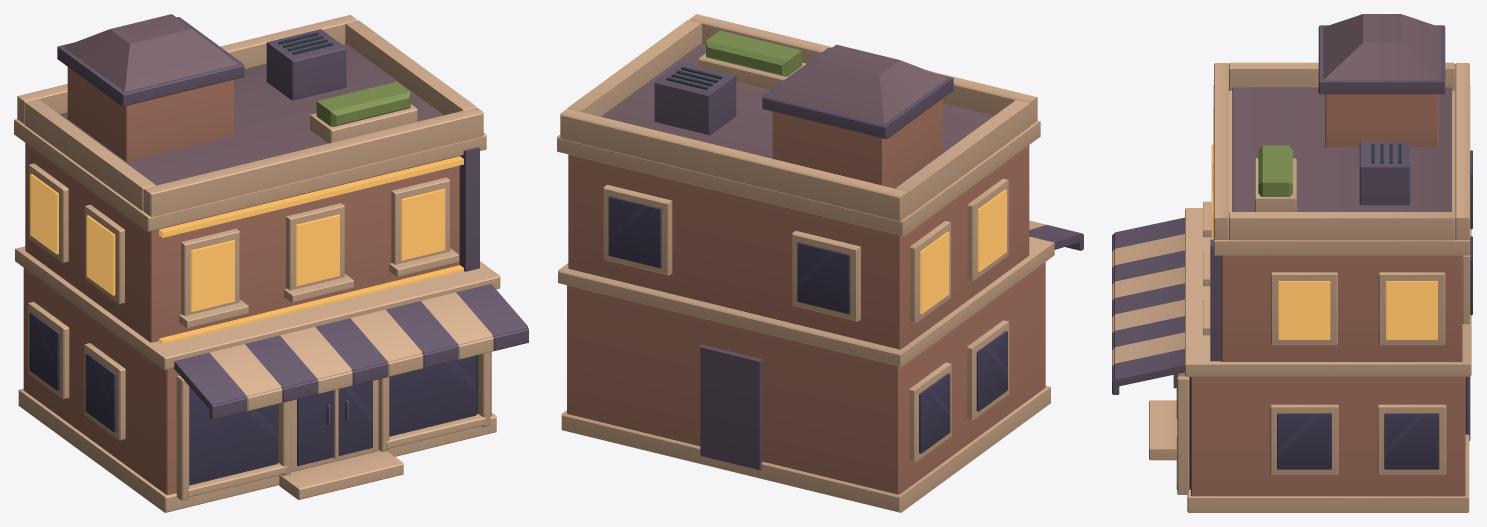
The model's file is 02D-market-threejs.glb.
3 renders of one model, left to right at view 1: azimuth 30°, elevation 25°; view 2: azimuth 150°, elevation 25°; view 3: azimuth 270°, elevation 25°, orthographic. The views are drawn at different scales.
Parts seen in each view (by area): view 1: 02D / trim, 02D / wall, 02D / accent, 02D / glass, 02D / roof, 02D / glow, 02D / green, 02D / dark; view 2: 02D / wall, 02D / trim, 02D / accent, 02D / roof, 02D / glass, 02D / glow, 02D / green, 02D / dark; view 3: 02D / trim, 02D / wall, 02D / roof, 02D / accent, 02D / glass, 02D / glow, 02D / green, 02D / dark.
Part boxes in pixels (x1,y1,x2,y2): 02D / trim: [14, 15, 500, 512]; 02D / wall: [23, 67, 491, 494]; 02D / accent: [57, 17, 528, 425]; 02D / glass: [29, 312, 476, 485]; 02D / roof: [59, 14, 443, 185]; 02D / glow: [30, 156, 463, 343]; 02D / green: [316, 81, 410, 126]; 02D / dark: [278, 32, 478, 462]; 02D / wall: [567, 98, 1045, 494]; 02D / trim: [557, 14, 1054, 512]; 02D / accent: [654, 47, 1083, 470]; 02D / roof: [601, 44, 993, 188]; 02D / glass: [608, 196, 1007, 453]; 02D / glow: [920, 189, 1006, 313]; 02D / green: [706, 30, 802, 76]; 02D / dark: [666, 67, 722, 89]; 02D / trim: [1112, 62, 1471, 512]; 02D / wall: [1191, 94, 1465, 496]; 02D / roof: [1232, 14, 1451, 211]; 02D / accent: [1112, 25, 1470, 440]; 02D / glass: [1185, 150, 1472, 469]; 02D / glow: [1211, 108, 1437, 339]; 02D / green: [1258, 145, 1292, 196]; 02D / dark: [1189, 144, 1401, 489].
Size of the model in its own units: 6.28 by 6.85 by 6.04.
8 materials, 8 textured.
